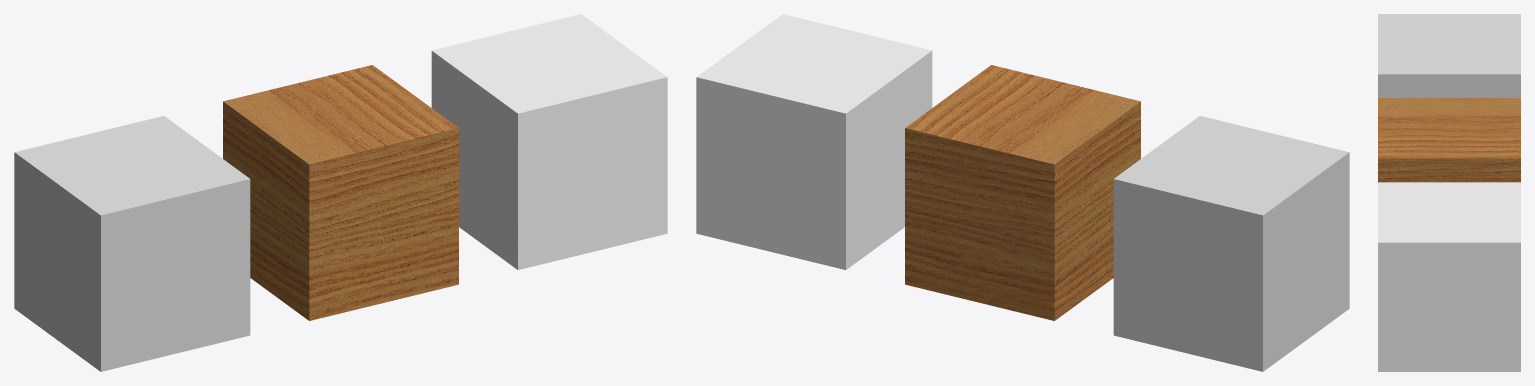
The model's file is Materials.glb.
The picture shows the model from 3 angles, left to right: view 1: azimuth 30°, elevation 25°; view 2: azimuth 150°, elevation 25°; view 3: azimuth 270°, elevation 25°; orthographic projection. The views are drawn at different scales.
Parts seen in each view (by area): view 1: Cube, Cube.002, Cube.001; view 2: Cube, Cube.002, Cube.001; view 3: Cube.002, Cube.001, Cube.
Boxes of the visible parts, box(x1,y1,x2,y2) form: Cube: box(14, 116, 250, 371); Cube.002: box(431, 14, 667, 269); Cube.001: box(223, 65, 458, 320); Cube: box(1113, 116, 1349, 371); Cube.002: box(696, 14, 932, 269); Cube.001: box(905, 65, 1140, 320); Cube.002: box(1378, 182, 1520, 371); Cube.001: box(1378, 98, 1520, 182); Cube: box(1378, 14, 1520, 97).
Bounding box in the file's own units: 7.58 × 2 × 2.
Materials: 3 (1 with a texture image).
